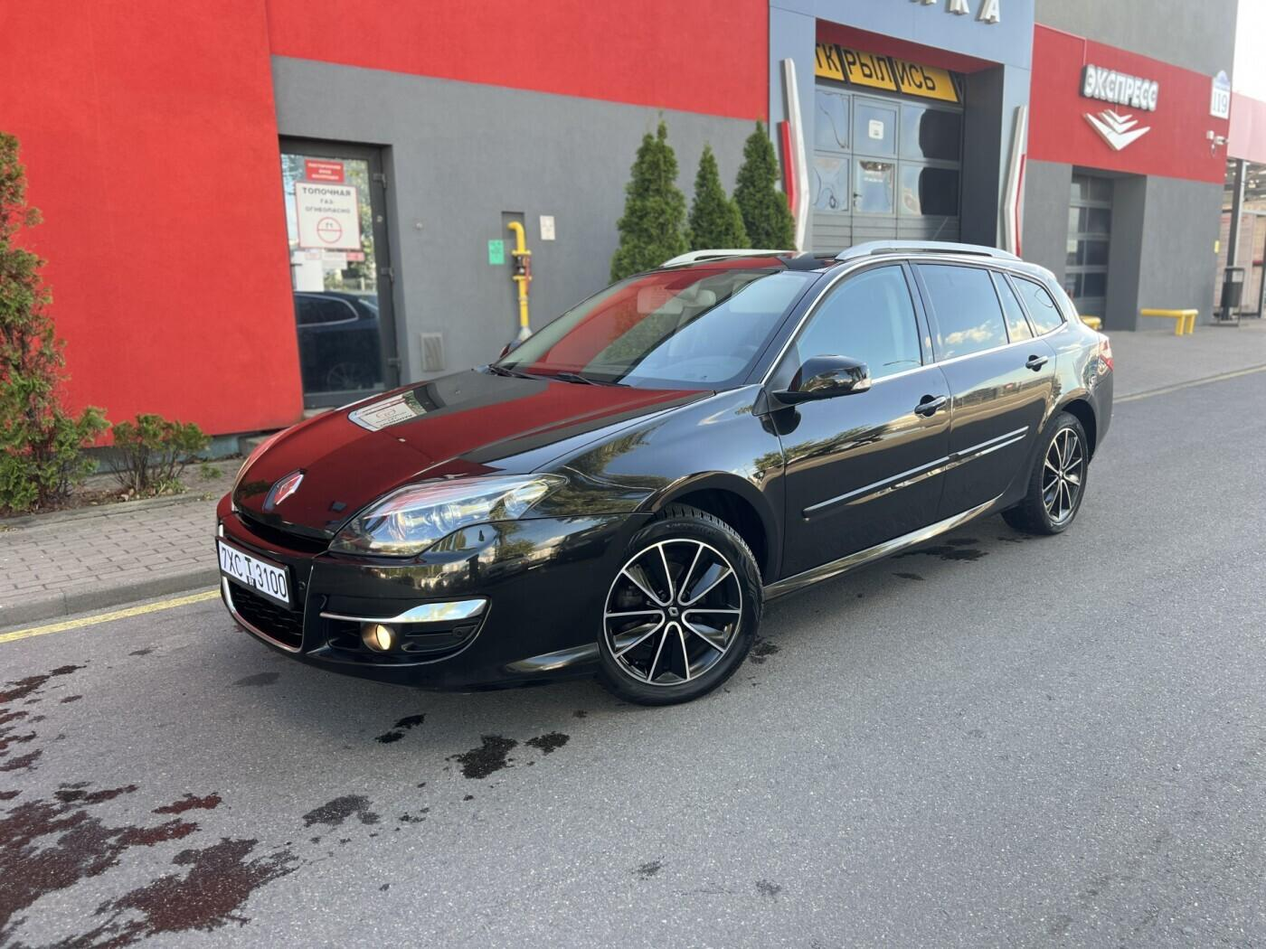Laguna_2010-2015: (207, 229, 1120, 709)
